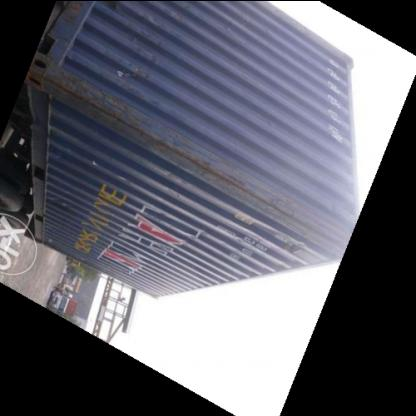Damage: (41, 72, 235, 162), (204, 148, 348, 240)
